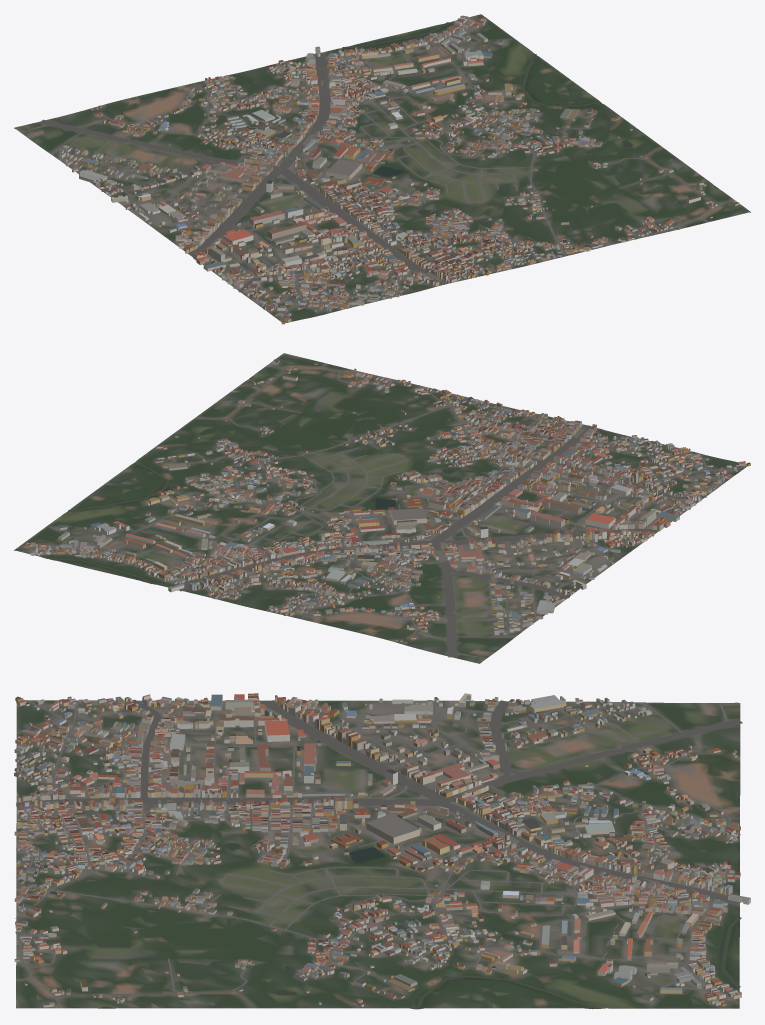
3 views of the same model, one above another, from view 1: azimuth 30°, elevation 25°; view 2: azimuth 150°, elevation 25°; view 3: azimuth 270°, elevation 25° (orthographic). The views are drawn at different scales.
Visible parts, largest first — view 1: ground, buildings, roads, water; view 2: ground, buildings, roads, water; view 3: ground, buildings, roads, water.
Boxes of the visible parts, x1=… form: ground: x1=14, y1=14, x2=750, y2=323; buildings: x1=59, y1=15, x2=739, y2=324; roads: x1=14, y1=16, x2=733, y2=320; water: x1=342, y1=22, x2=718, y2=214; ground: x1=14, y1=353, x2=747, y2=663; buildings: x1=23, y1=359, x2=750, y2=643; roads: x1=21, y1=363, x2=745, y2=663; water: x1=46, y1=376, x2=454, y2=583; ground: x1=16, y1=700, x2=740, y2=1009; buildings: x1=14, y1=693, x2=750, y2=1007; roads: x1=15, y1=699, x2=742, y2=1008; water: x1=101, y1=843, x2=741, y2=1009.
Size of the model in its own units: 1416 by 36.34 by 1428.
